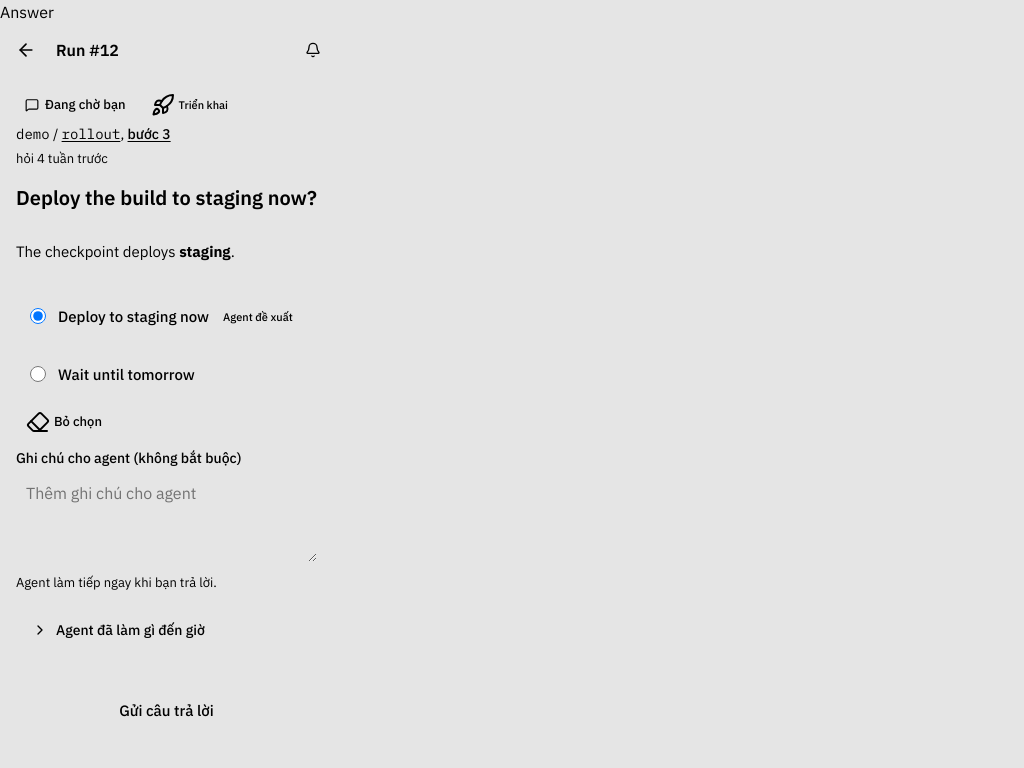
DecisionSheet on a phone, from the Inbox › is a screen of its own: the question as its h1, Back to Inbox, the run, and Send answer in the bar at its foot
Expected: the button named "Về Inbox" is shown, [4,28,48,72]
Click the button "Gửi câu trả lời": (166, 710) [16,688,317,732]
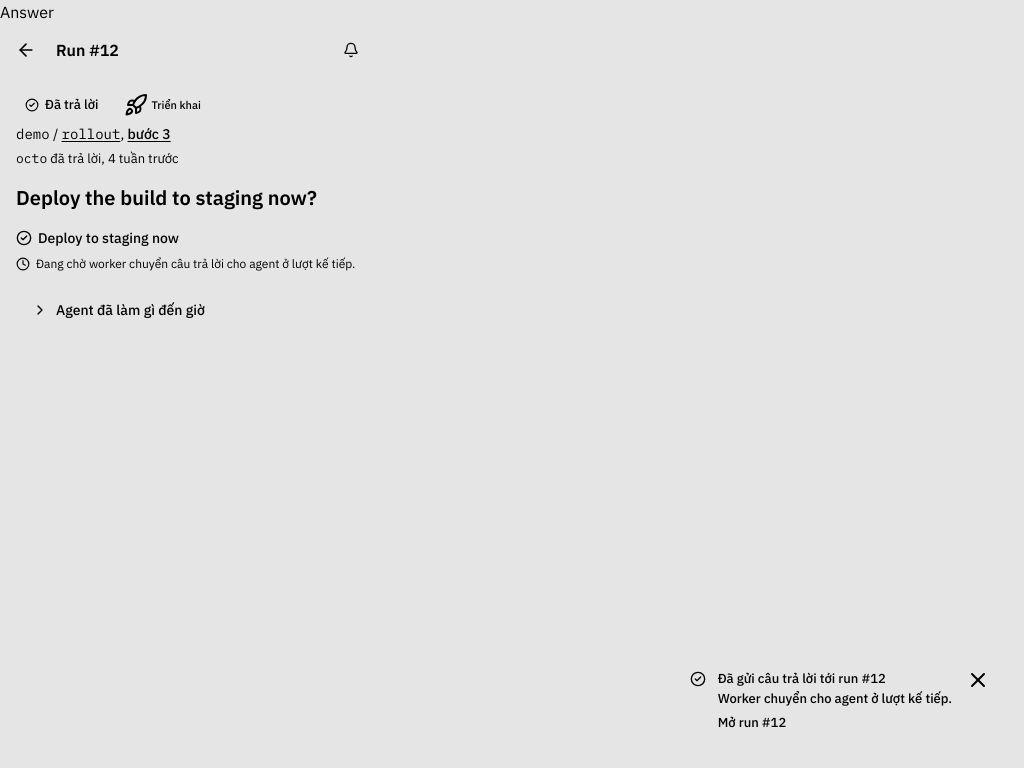
Expected: the element with test id "decision-answer" shows "Deploy to staging now", [38,229,179,247]
Expected: the element with test id "decision-bar" is gone
Click the button with test id "decision-back": (26, 50) [4,28,48,72]
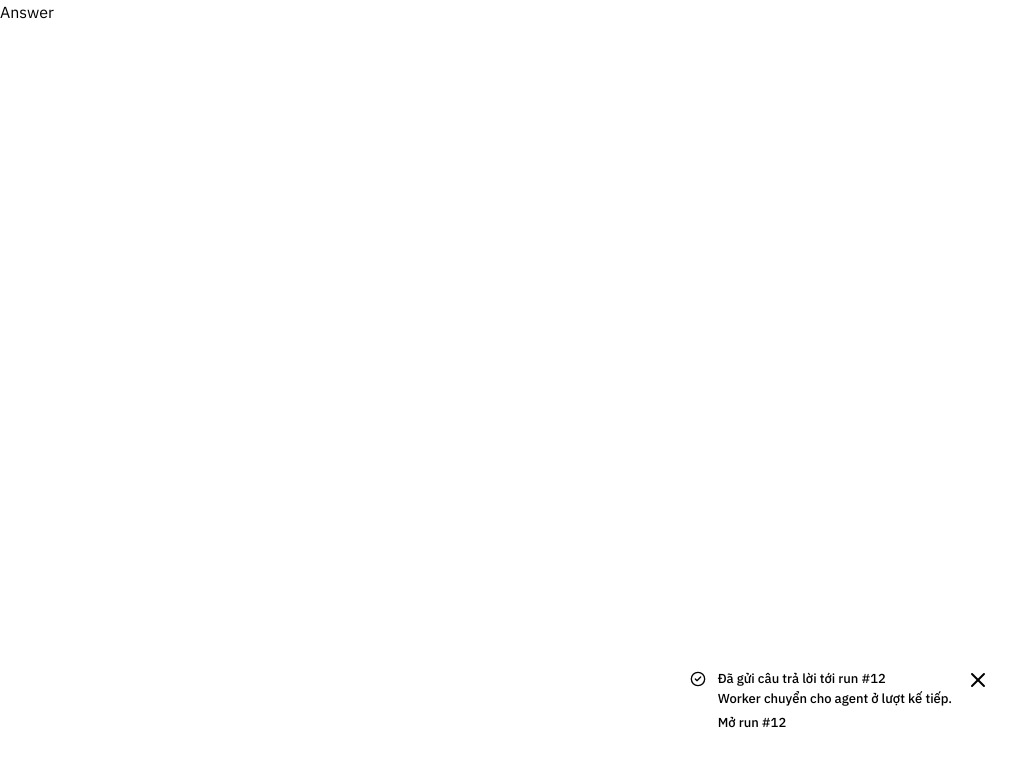
Expected: the dialog is gone
